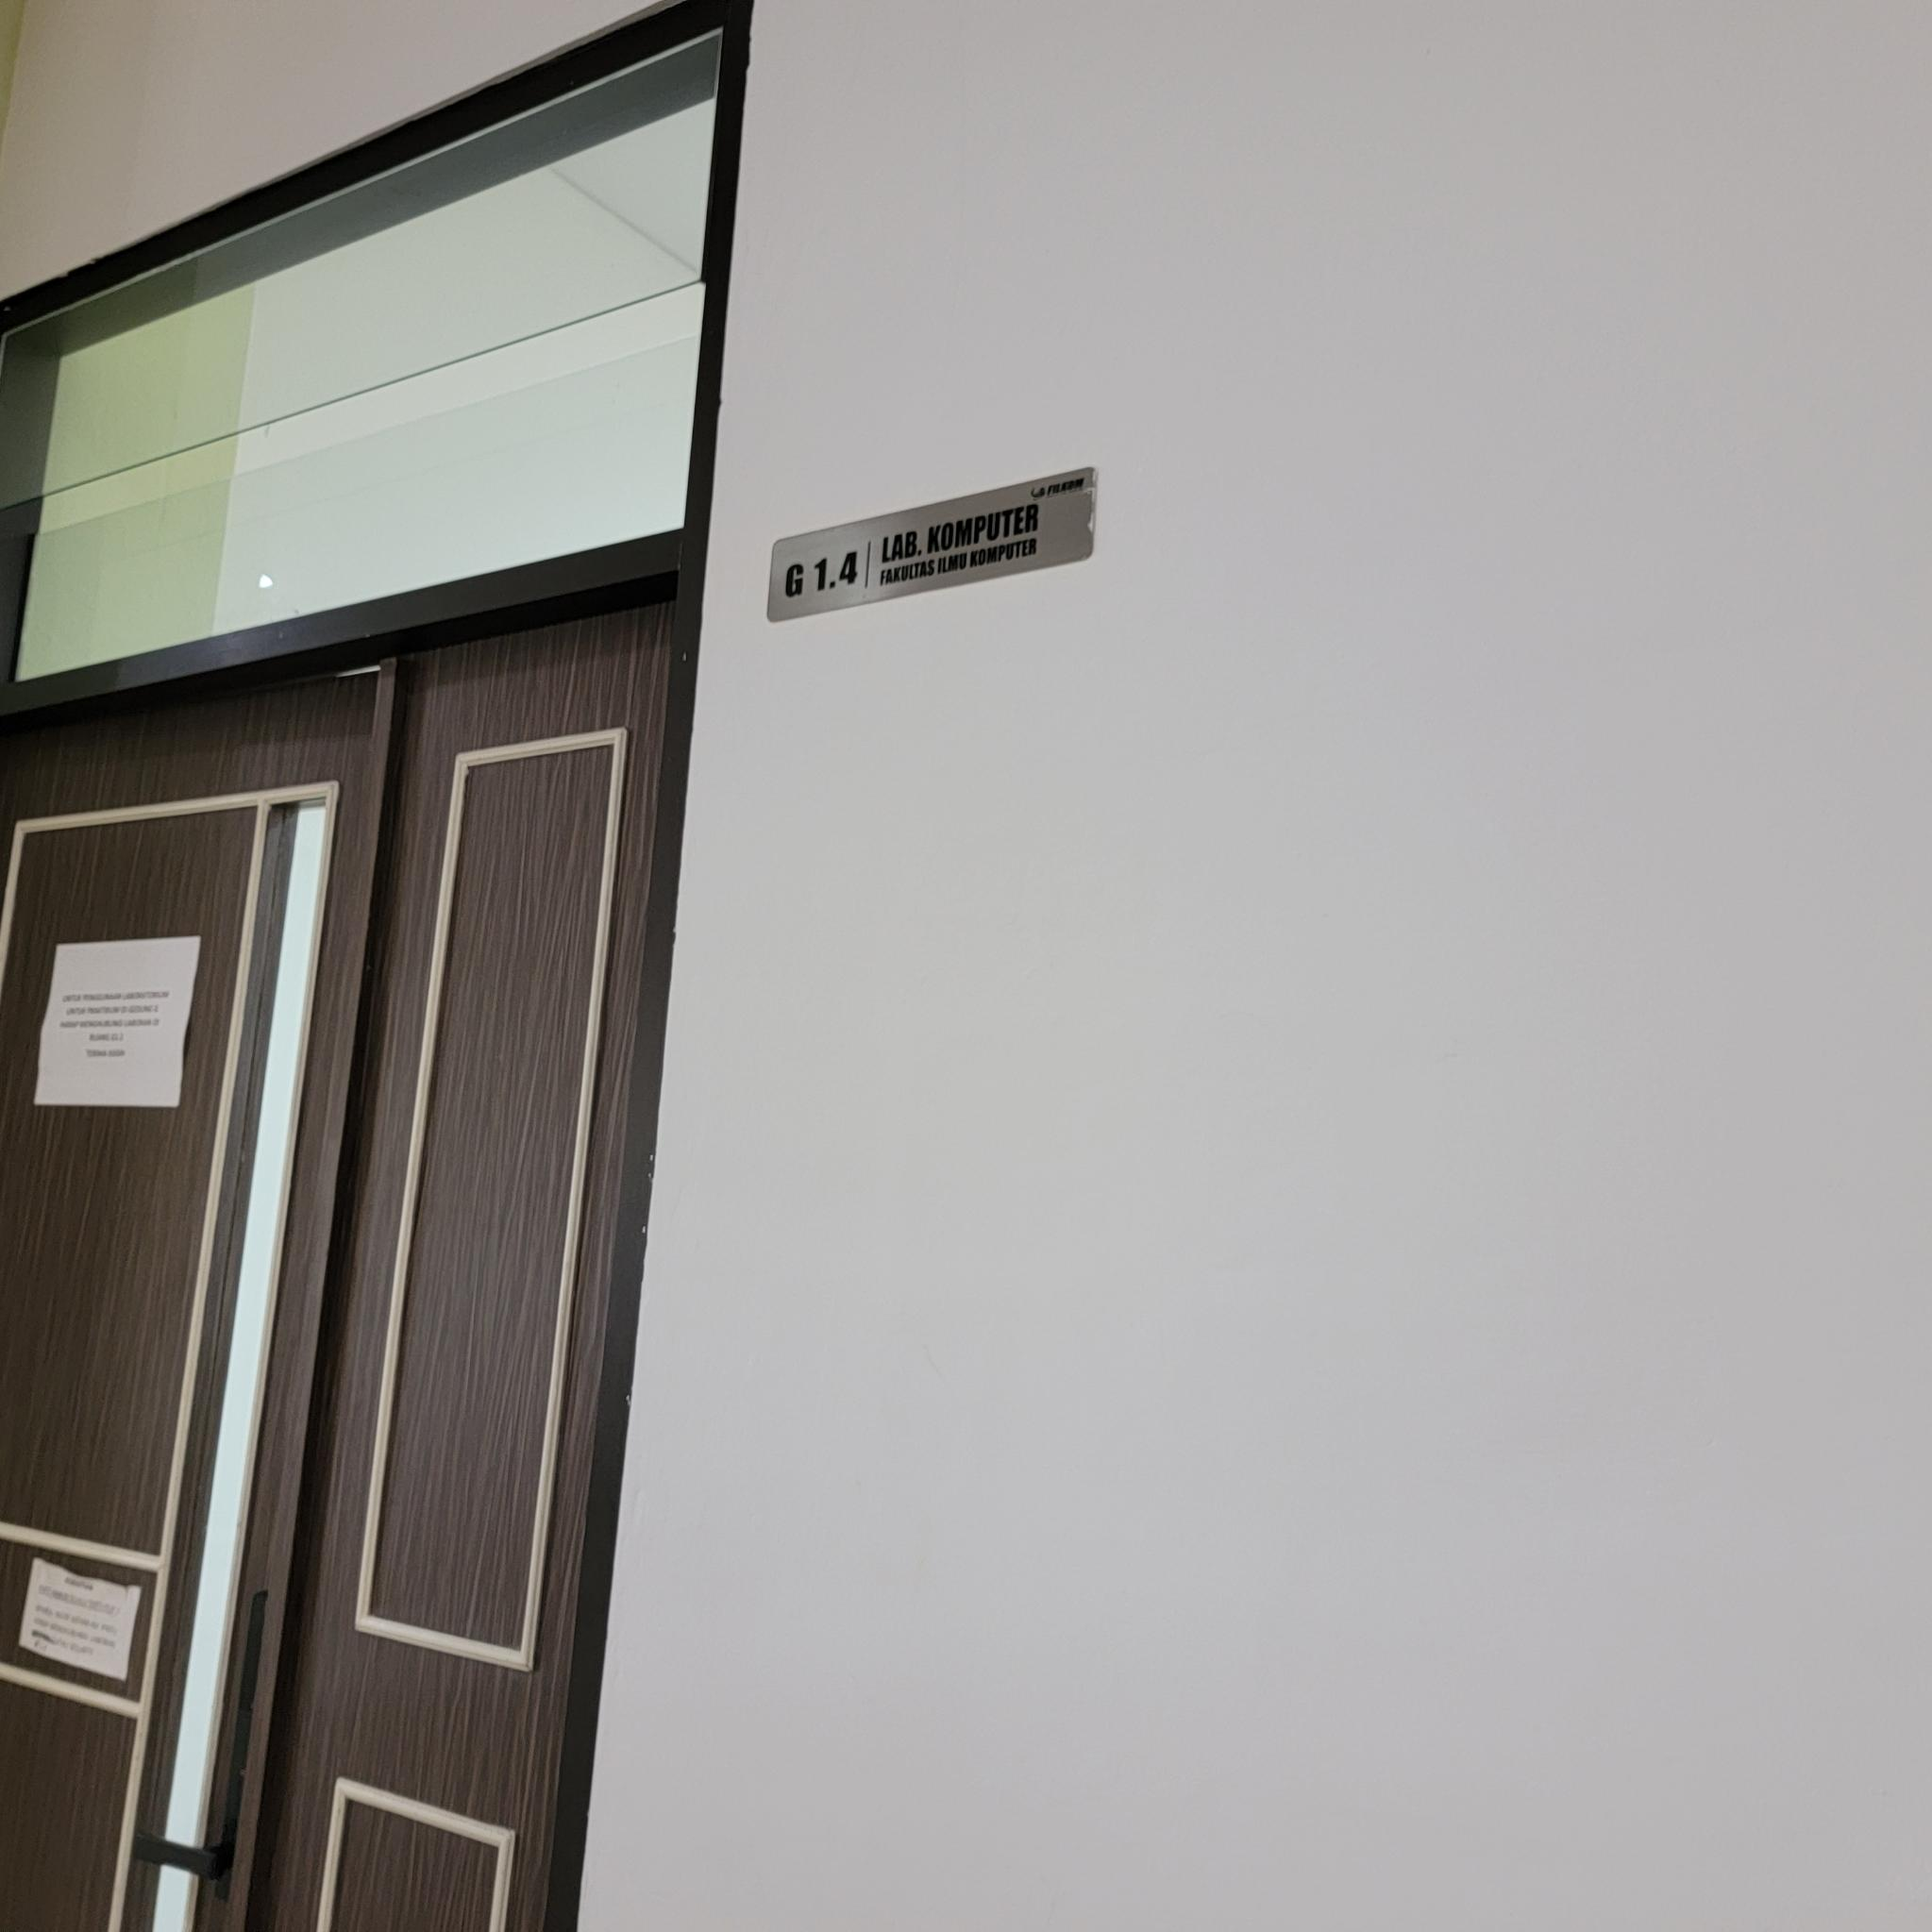plate: (768, 465, 1099, 623)
